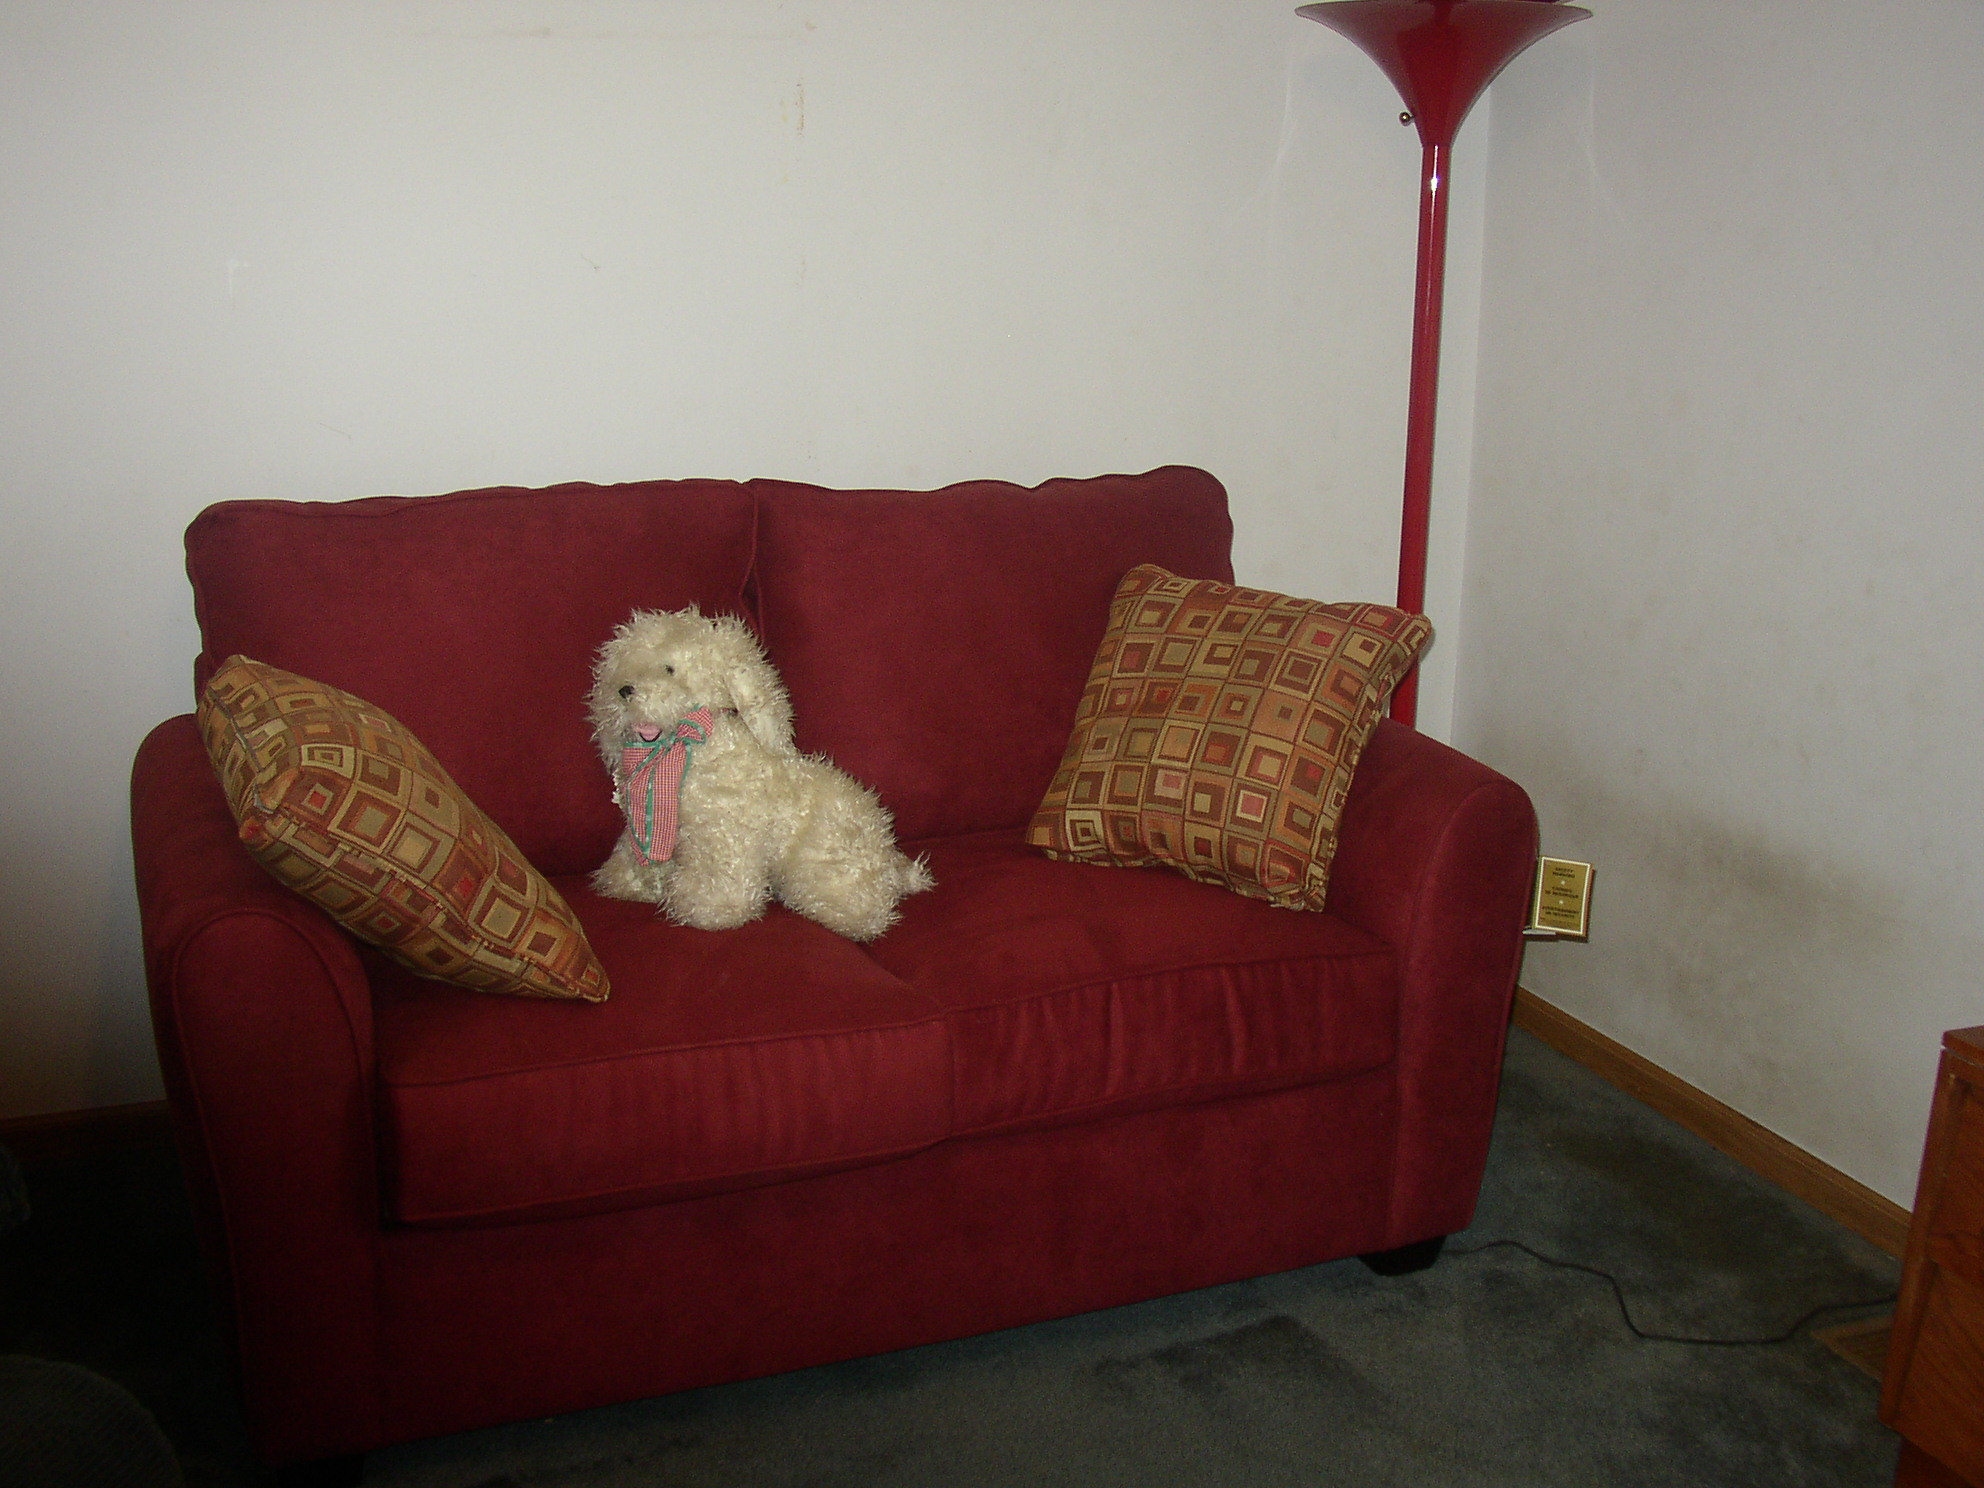dog: (547, 603, 936, 961)
sofa: (134, 474, 1514, 1419)
